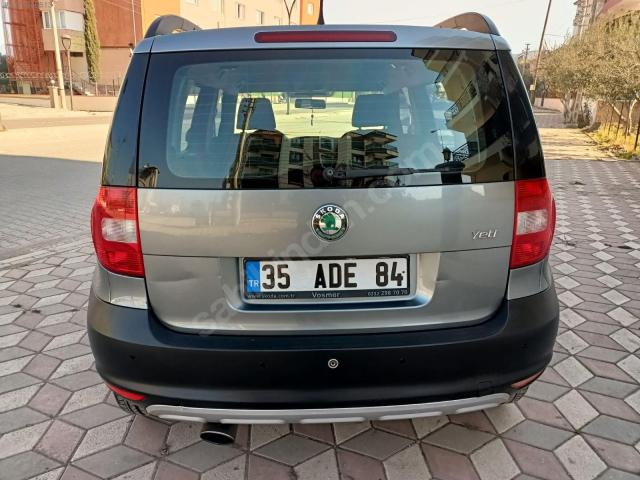plaka: (244, 256, 411, 299)
